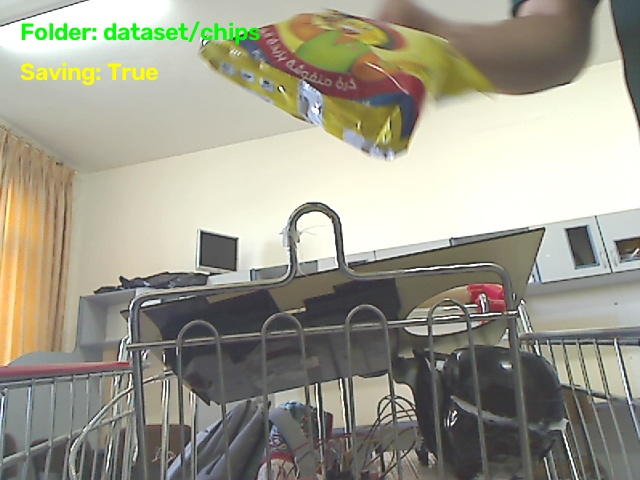chips: (201, 11, 492, 159)
